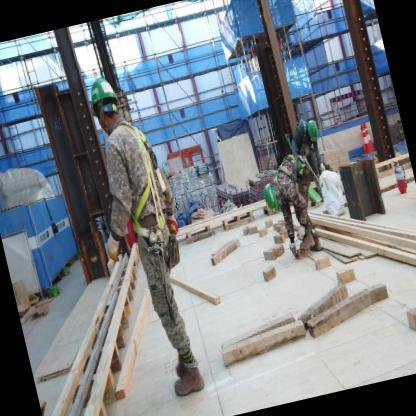Helmet: (78, 68, 123, 113), (257, 181, 283, 219)
safety-shoe: (167, 363, 216, 409), (298, 230, 326, 258)
